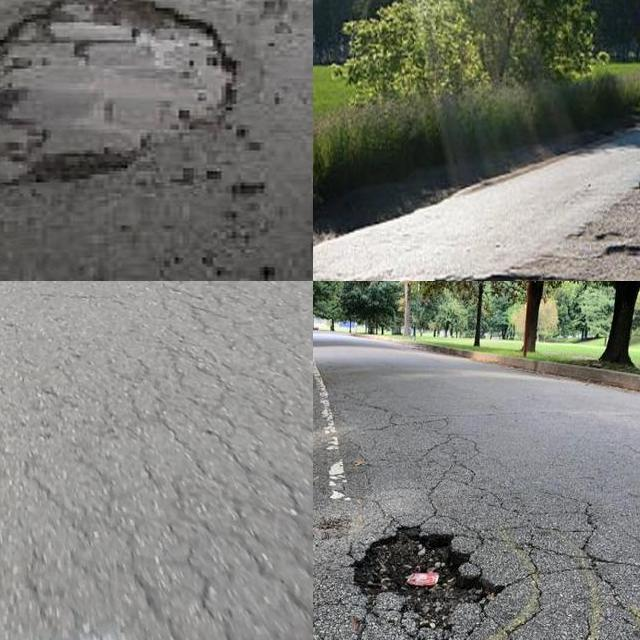Lubang: (0, 0, 232, 188), (355, 525, 499, 634)
Retak Buaya: (109, 281, 313, 640)
